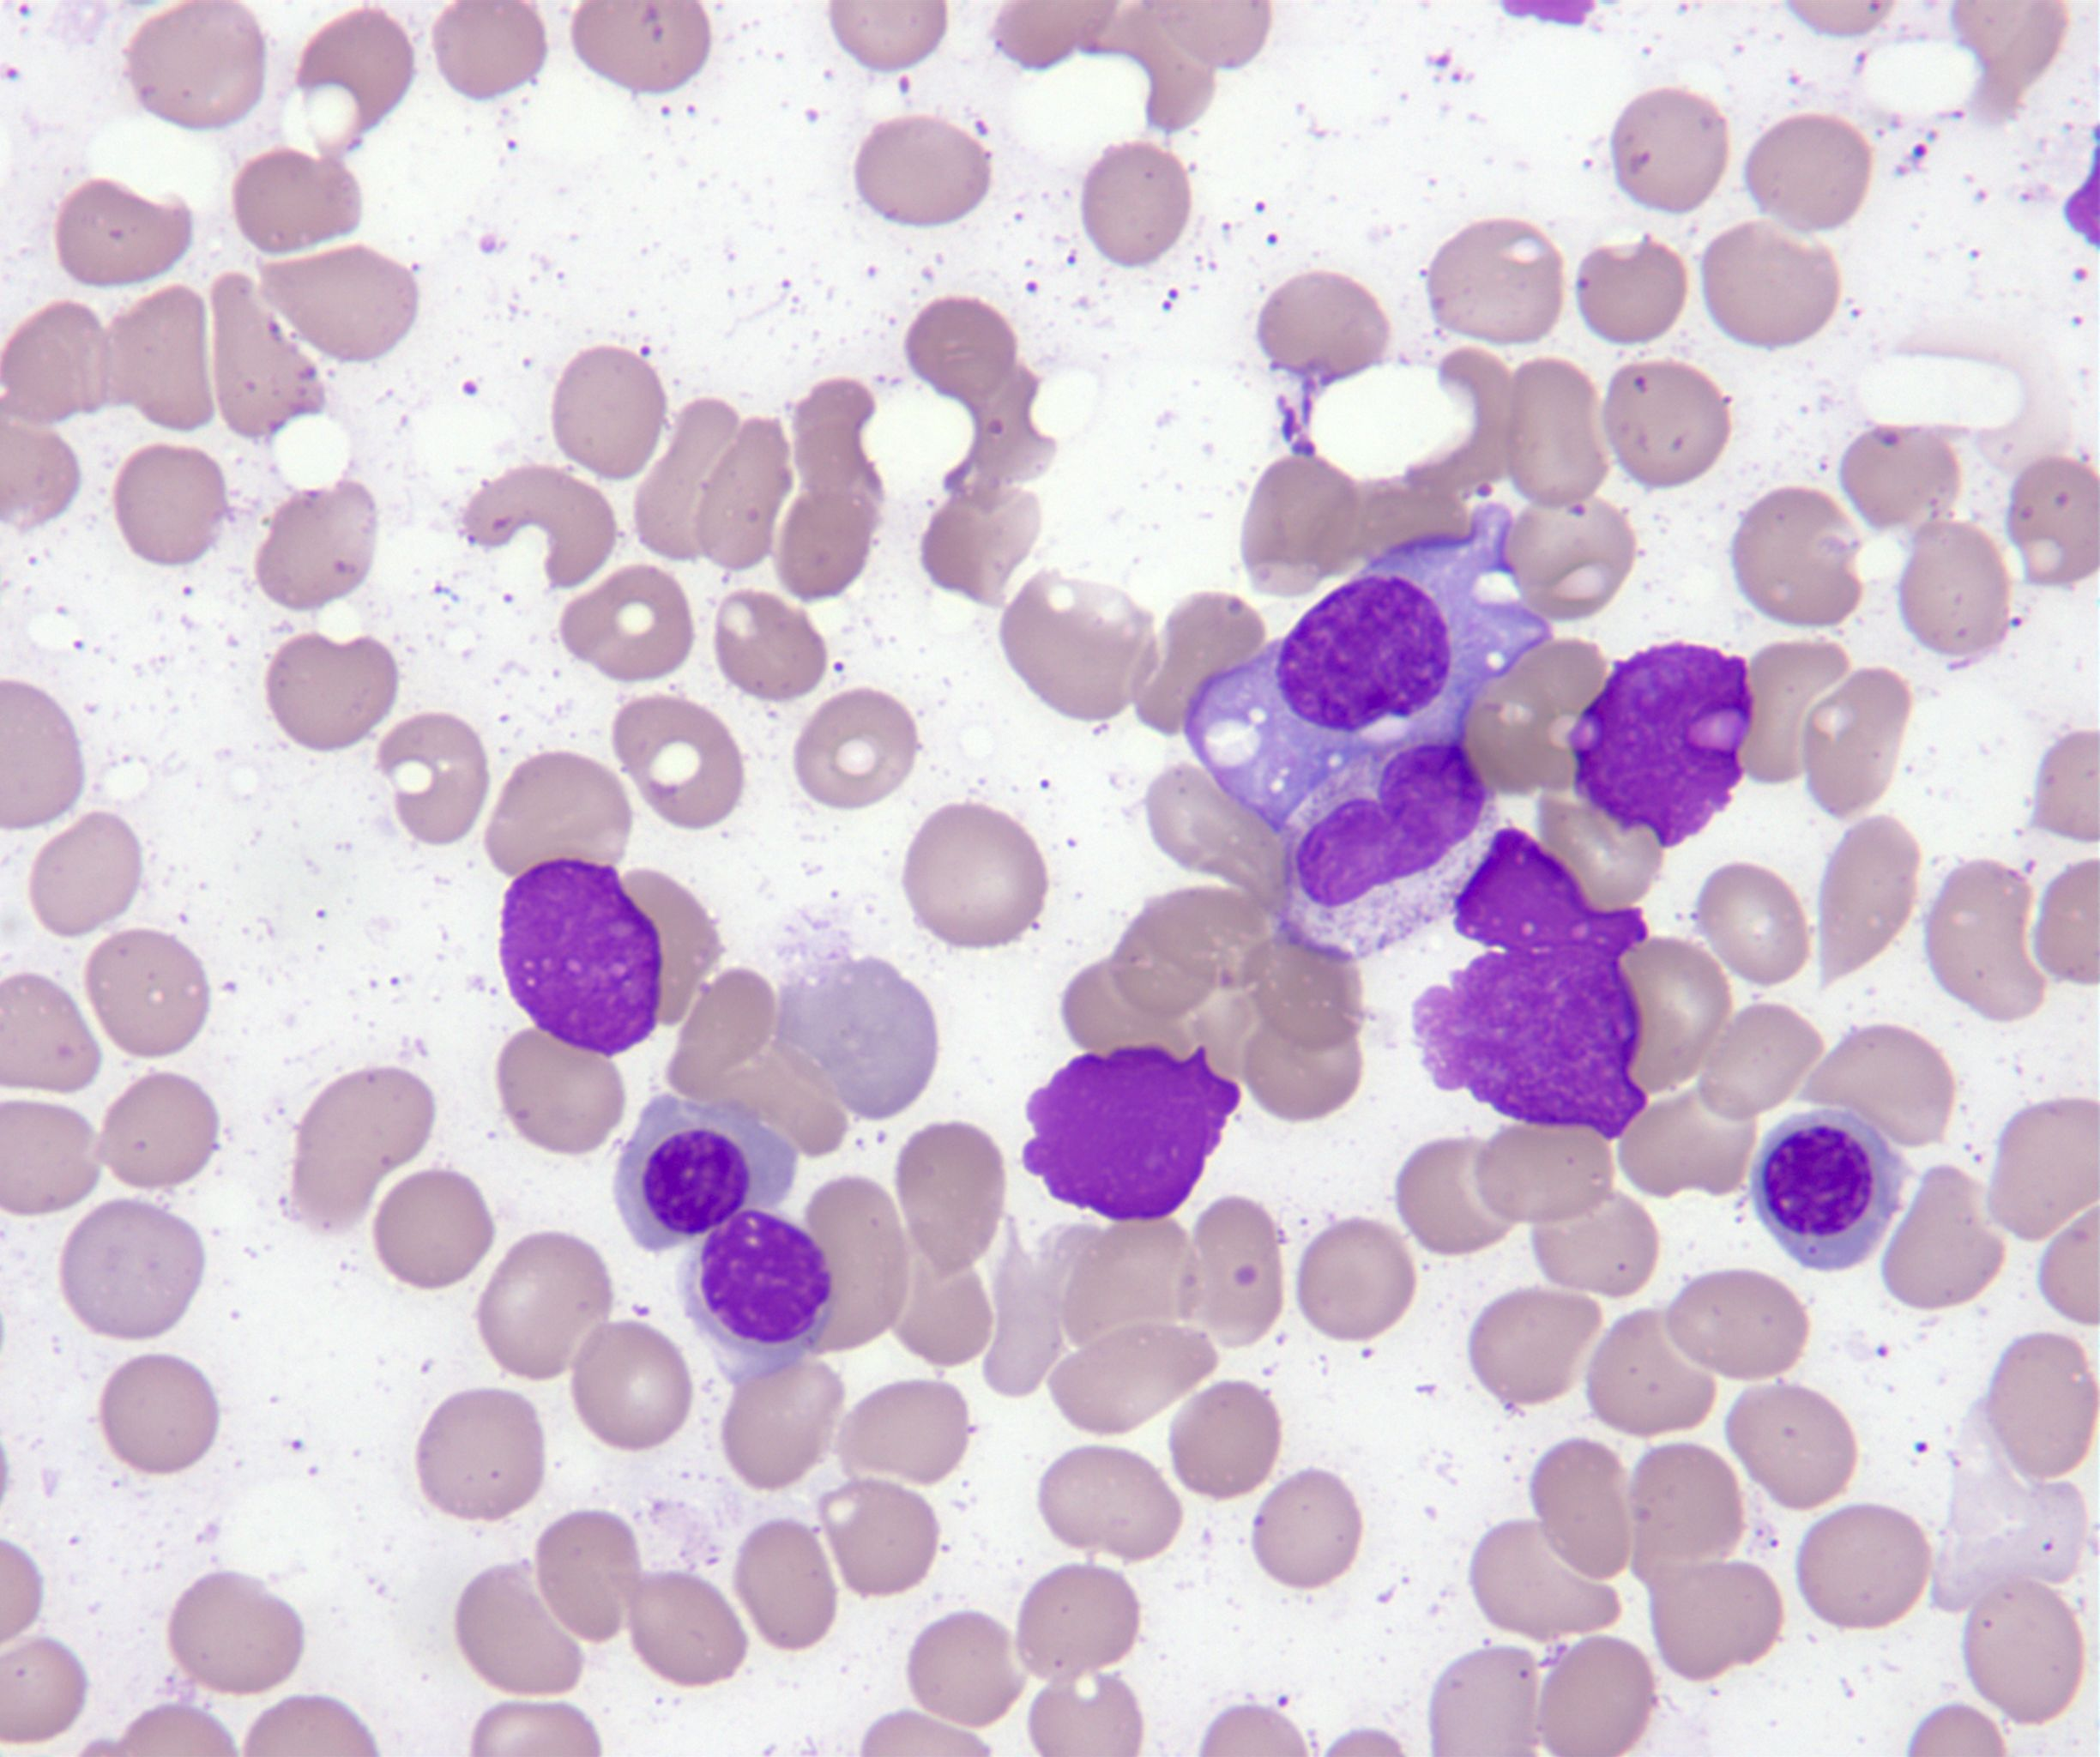22: (1184, 501, 1554, 834)
24: (612, 1094, 795, 1253), (1749, 1111, 1908, 1272)
4: (1272, 742, 1498, 960)
x: (1411, 827, 1648, 1139), (1022, 1043, 1240, 1220), (1566, 644, 1751, 850), (501, 862, 661, 1056), (677, 1209, 834, 1387)
